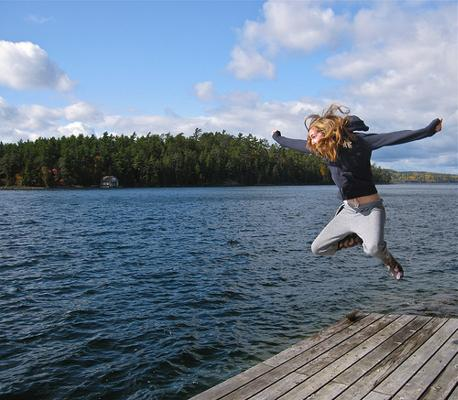person: (273, 109, 443, 282)
